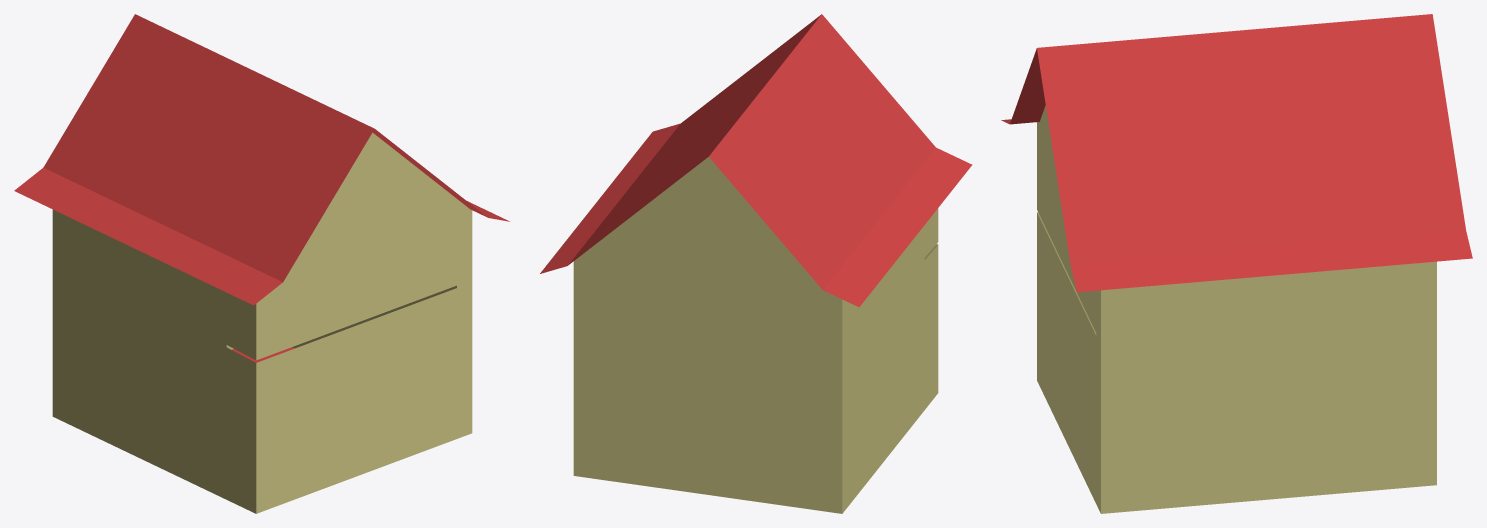
3 views of the same model, side by side, from view 1: azimuth 30°, elevation 25°; view 2: azimuth 150°, elevation 25°; view 3: azimuth 270°, elevation 25° (orthographic). The views are drawn at different scales.
Size of the model in its own units: 14.92 by 15.46 by 14.37.
